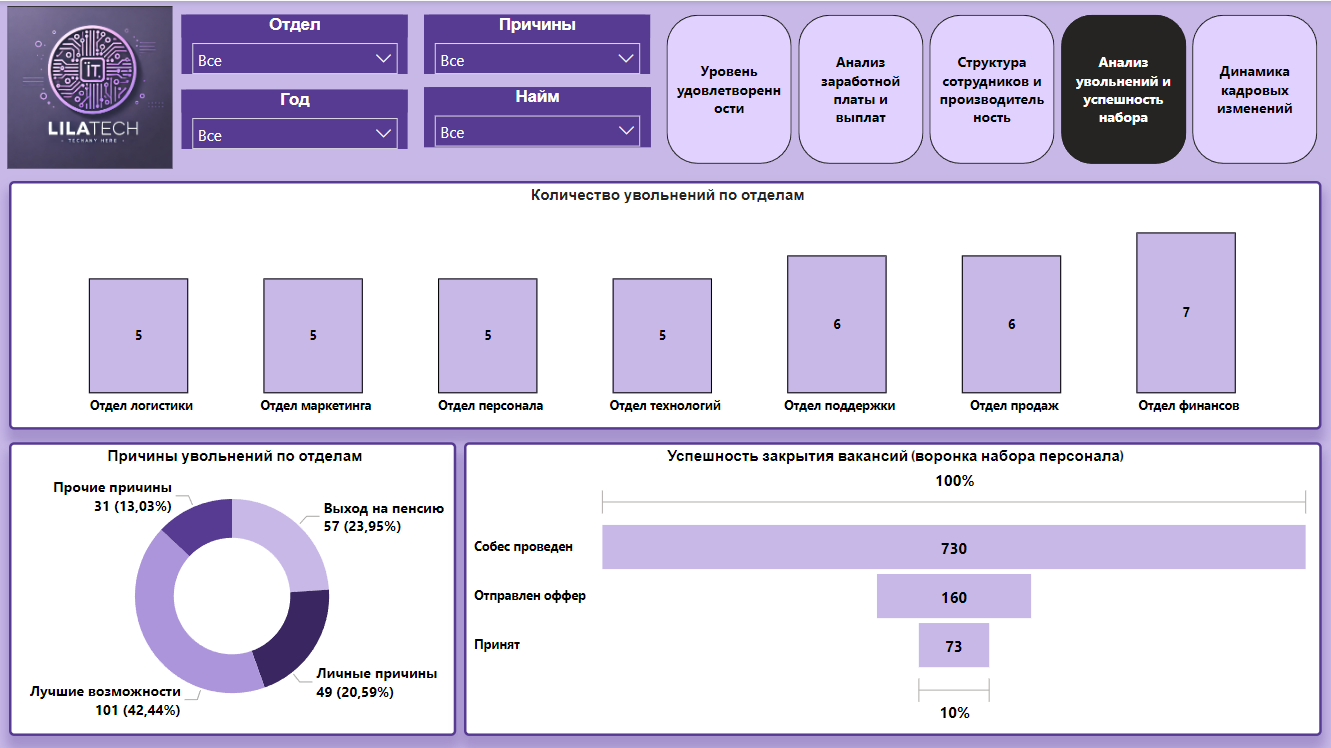

The dashboard page shown, as its layout file describes it:
{"tool":"powerbi","page":{"name":"Анализ увольнений и успешность набора","canvas":[1280,720],"ordinal":3},"visuals":[{"type":"clusteredColumnChart","title":"Количество увольнений по отделам","fields":{"Category":["ReasonsToLeave.Dept"],"Y":["Count(ReasonsToLeave.Quantity of pers)"]},"box":[10,172.5,1258.8,238.8],"z":0},{"type":"donutChart","title":"Причины увольнений по отделам","fields":{"Category":["ReasonsToLeave.Reasons"],"Y":["Sum(ReasonsToLeave.Quantity of pers)"]},"box":[10.1,422.7,428.5,281.3],"z":1000},{"type":"funnel","title":"Успешность закрытия вакансий (воронка набора персонала)","fields":{"Category":["Hiring.hiring"],"Y":["Sum(Hiring.Quantity of pers)"]},"box":[445.8,422.7,822.4,281.3],"z":2000},{"type":"image","box":[0,0,175,166],"z":3000},{"type":"pageNavigator","box":[640,13.8,626.2,143.8],"z":4000},{"type":"slicer","title":"Год","fields":{"Values":["ReasonsToLeave.Year"]},"box":[175,85,217,57],"z":5000},{"type":"slicer","title":"Причины","fields":{"Values":["ReasonsToLeave.Reasons"]},"box":[408,13,217,57],"z":6000},{"type":"slicer","title":"Отдел","fields":{"Values":["ReasonsToLeave.Dept"]},"box":[175,13,217,57],"z":7000},{"type":"slicer","title":"Найм","fields":{"Values":["Hiring.hiring"]},"box":[407.5,82.5,217.5,57.5],"z":8000}]}

Visuals, with their boxes in screenshot pixels (x1, y1, x2, y2), scaled from the page's 1280x720 canvas onto the 1331x748 screenshot:
"Количество увольнений по отделам" clusteredColumnChart: x1=10 y1=179 x2=1319 y2=427
"Причины увольнений по отделам" donutChart: x1=11 y1=439 x2=456 y2=731
"Успешность закрытия вакансий (воронка набора персонала)" funnel: x1=464 y1=439 x2=1319 y2=731
image: x1=0 y1=0 x2=182 y2=172
pageNavigator: x1=666 y1=14 x2=1317 y2=164
"Год" slicer: x1=182 y1=88 x2=408 y2=148
"Причины" slicer: x1=424 y1=14 x2=650 y2=73
"Отдел" slicer: x1=182 y1=14 x2=408 y2=73
"Найм" slicer: x1=424 y1=86 x2=650 y2=145
